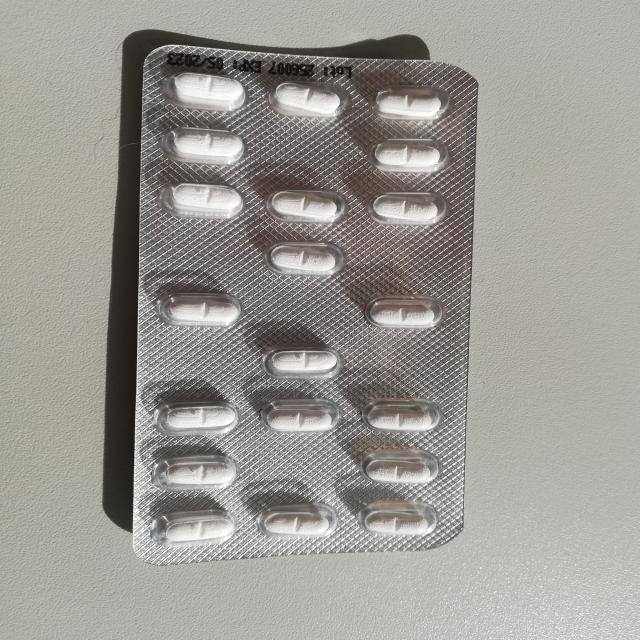Pill: (150, 450, 246, 493), (154, 290, 254, 331), (159, 122, 252, 166), (161, 178, 252, 222), (161, 66, 248, 112), (350, 451, 452, 489), (150, 511, 243, 551), (261, 344, 352, 382), (150, 398, 246, 434), (261, 188, 350, 226), (359, 398, 452, 434), (365, 190, 450, 229), (352, 507, 444, 542), (372, 85, 454, 124), (363, 296, 446, 333), (366, 139, 456, 173), (272, 78, 348, 118), (261, 402, 348, 436), (258, 506, 334, 543), (266, 240, 344, 276)
